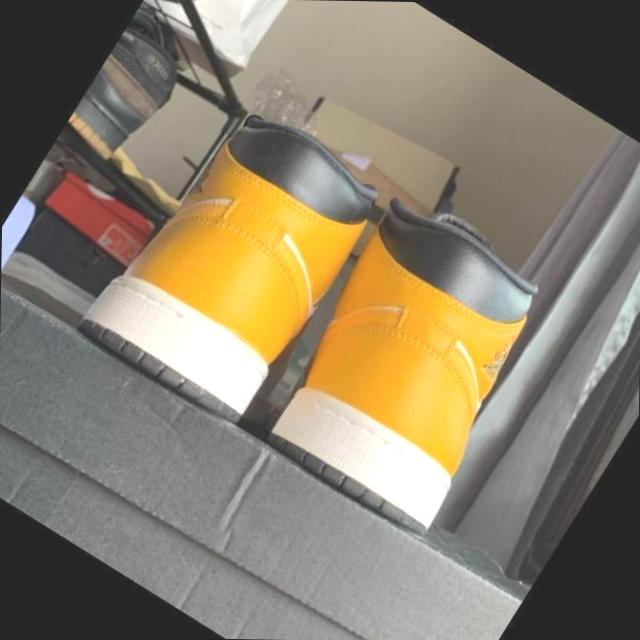nike_original_jordan: (239, 175, 581, 549), (62, 78, 400, 444)
